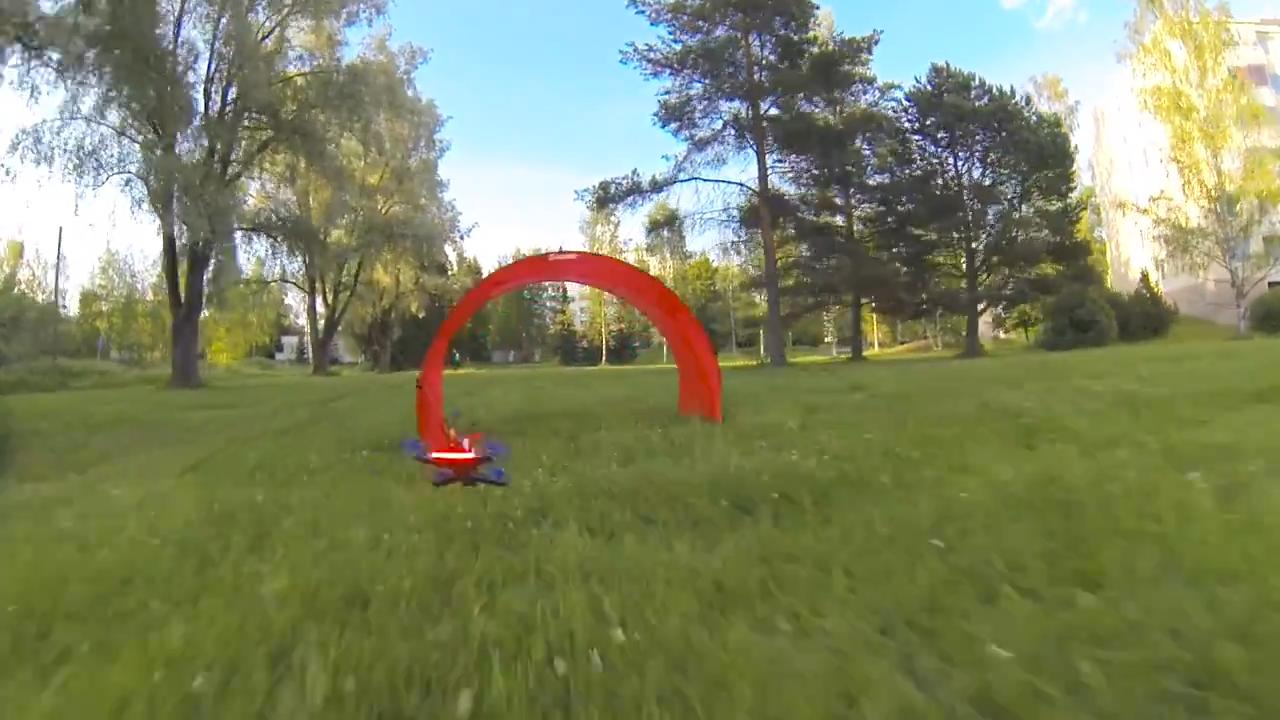gate: (418, 247, 727, 446)
